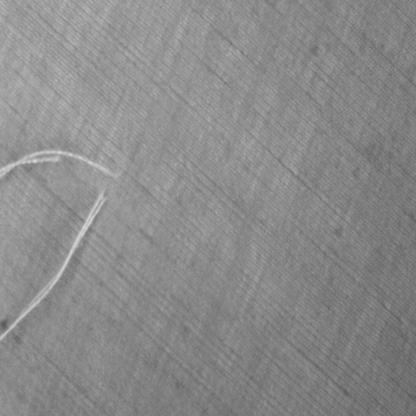objects: (0, 148, 119, 344)
